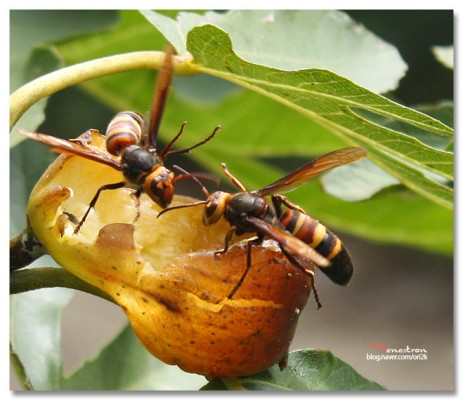asian_giant_hornet: (199, 163, 358, 289), (86, 99, 188, 219)
